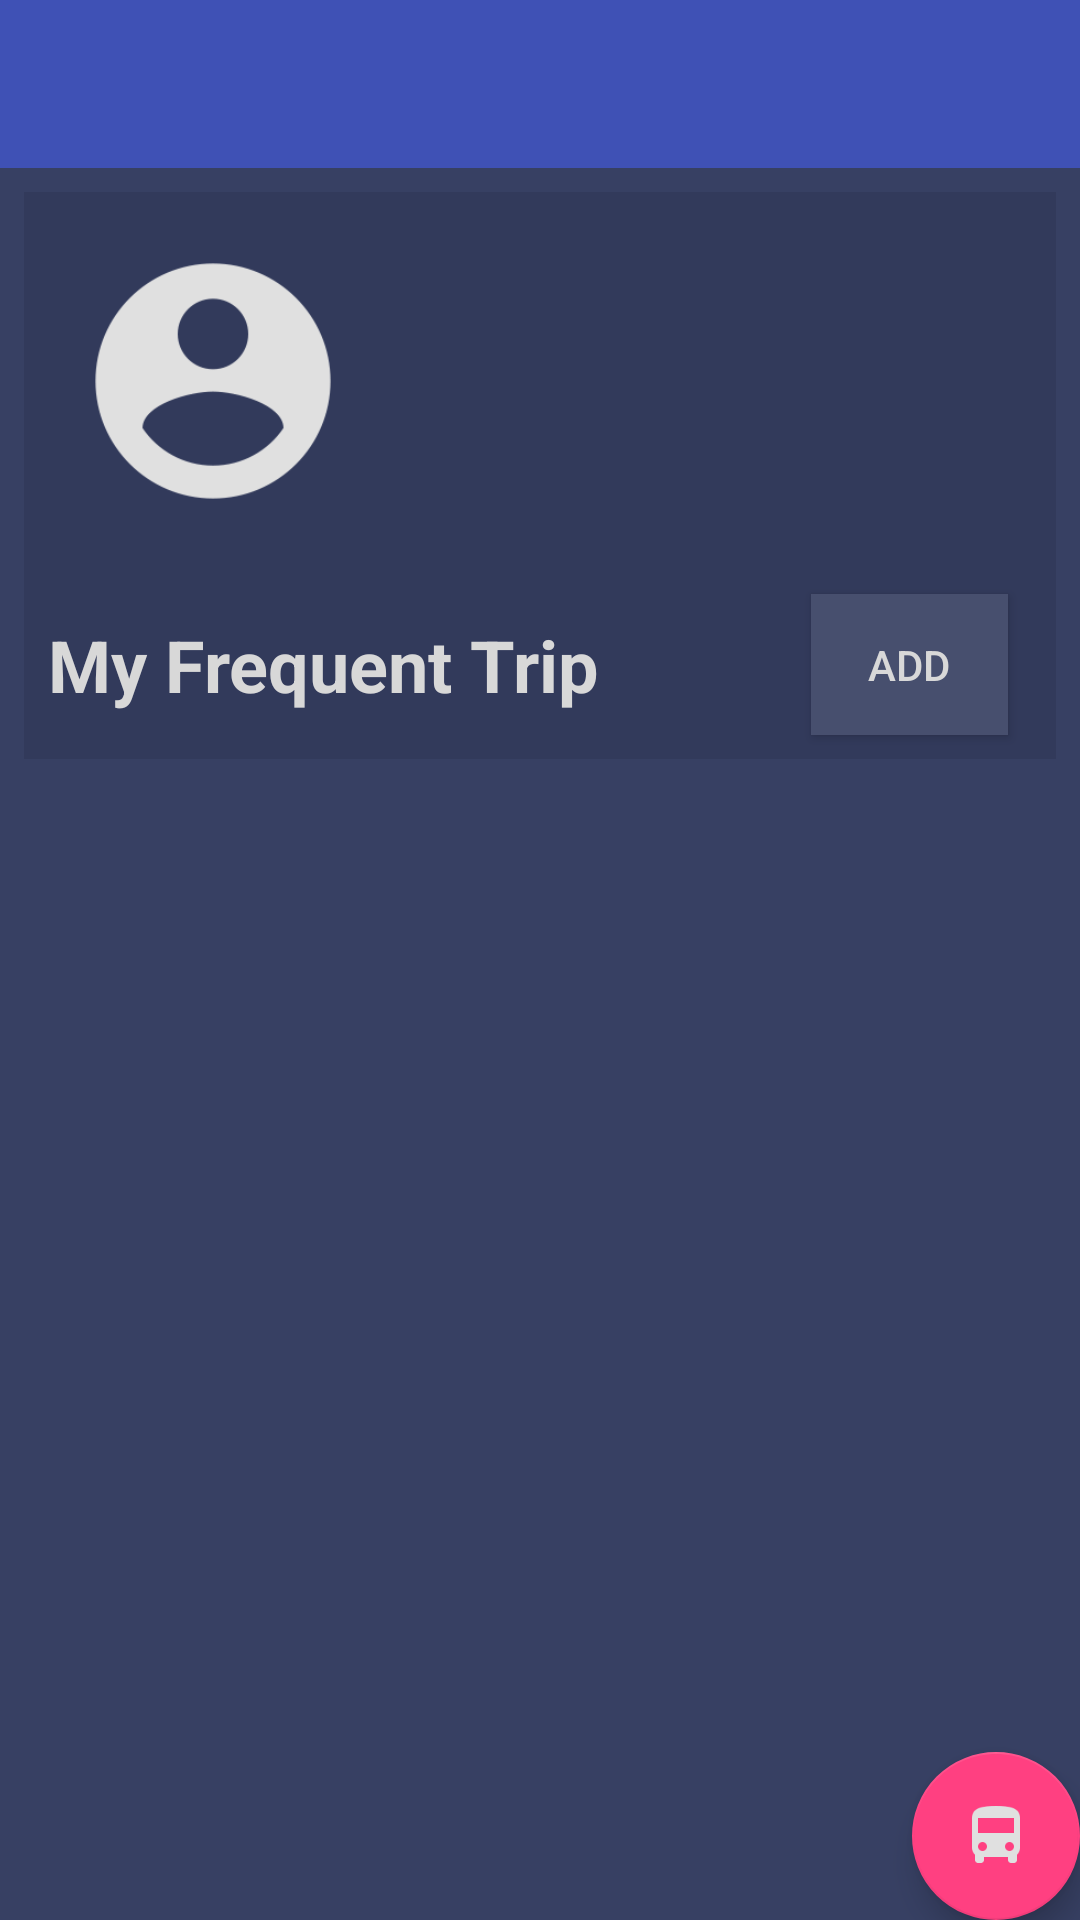

Named icons in this screenshot (1080×1920) and their bounding boxes, (x1, y1, x2, y2):
bus: (912, 1752, 1080, 1920)
